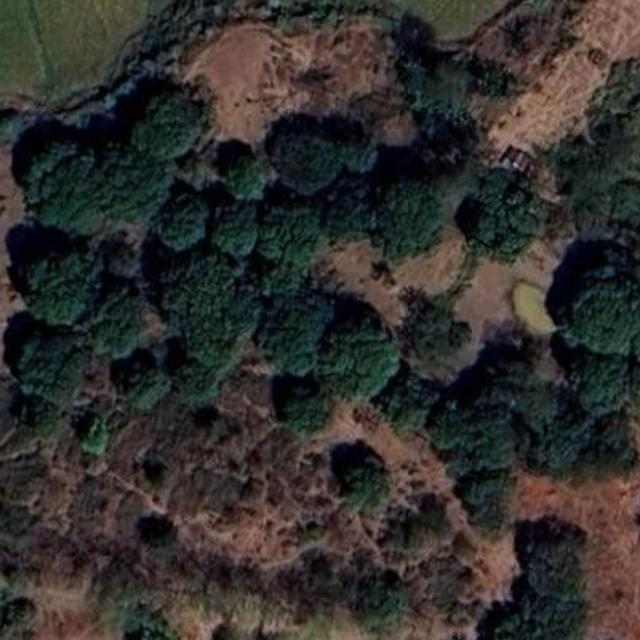Tree: (158, 256, 257, 402), (48, 142, 178, 242), (335, 184, 456, 265), (239, 284, 333, 372), (560, 272, 639, 364), (321, 326, 403, 406), (256, 118, 339, 196), (434, 403, 515, 480), (401, 284, 474, 367), (473, 184, 552, 257), (20, 333, 96, 407), (478, 589, 584, 640), (25, 252, 94, 328), (488, 364, 558, 436), (133, 91, 209, 157), (264, 206, 330, 282), (459, 464, 516, 539), (21, 132, 79, 202), (573, 353, 633, 419), (81, 290, 144, 352), (528, 528, 582, 599), (334, 448, 392, 509), (393, 377, 443, 442), (213, 192, 259, 258), (280, 384, 334, 434), (123, 367, 177, 414), (225, 144, 269, 198), (168, 200, 208, 255), (334, 132, 383, 174), (603, 176, 640, 227), (404, 513, 440, 562), (86, 417, 117, 459), (147, 522, 176, 554)
